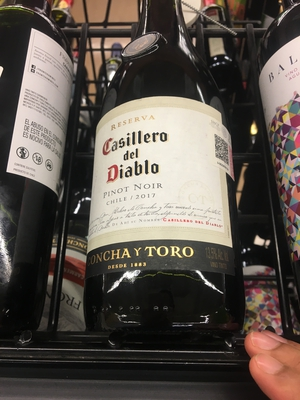casillero del diablo pinot noir: (85, 4, 243, 332)
